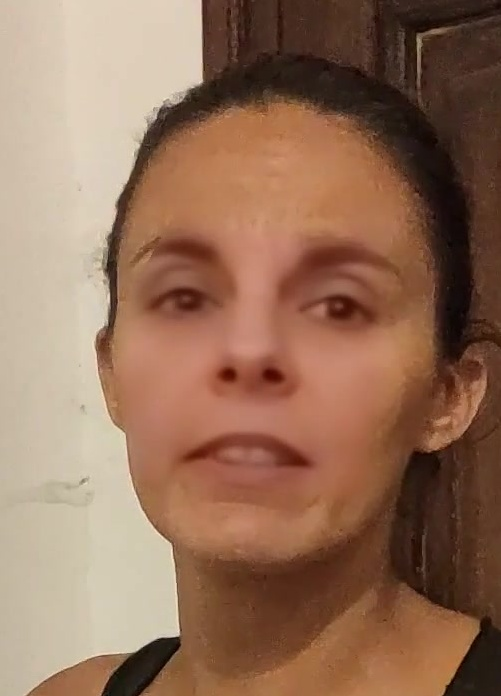eb_f: (118, 223, 406, 342)
